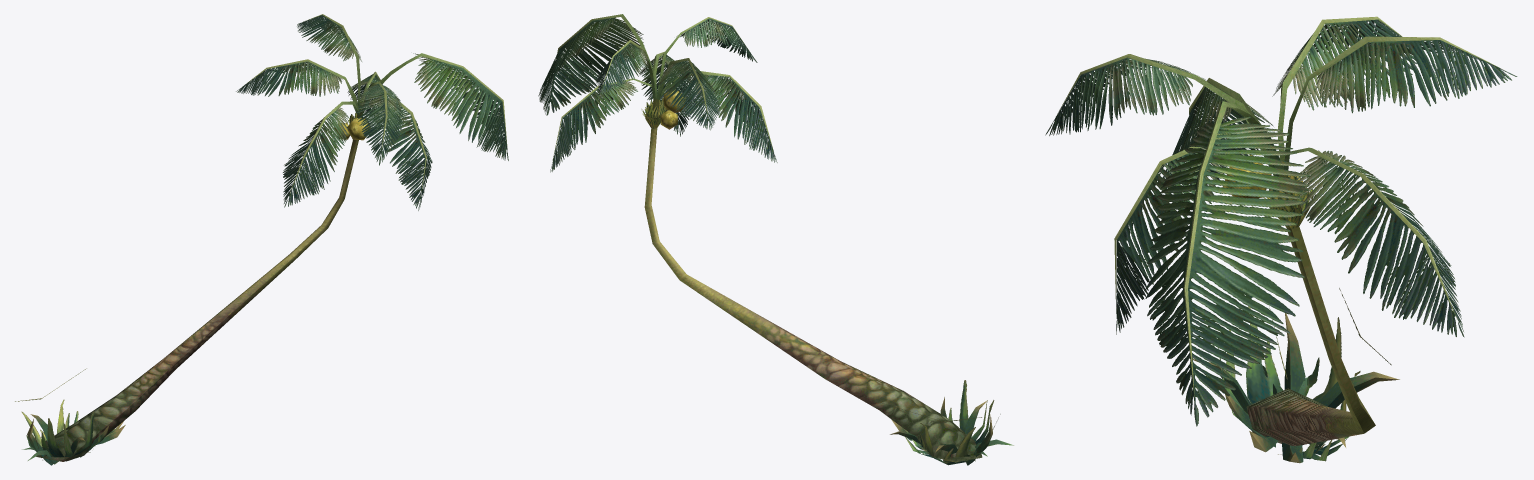
Rendered from 5010_Item_yeshu_02.FBX.
3 views of the same model, side by side, from view 1: azimuth 30°, elevation 25°; view 2: azimuth 150°, elevation 25°; view 3: azimuth 270°, elevation 25° (orthographic). The views are drawn at different scales.
Parts seen in each view (by area): view 1: 5010_Item_yeshu_02; view 2: 5010_Item_yeshu_02; view 3: 5010_Item_yeshu_02.
Boxes of the visible parts, left/top/right/bottom form: 5010_Item_yeshu_02: left=15, top=14, right=508, bottom=465; 5010_Item_yeshu_02: left=538, top=14, right=1013, bottom=465; 5010_Item_yeshu_02: left=1045, top=16, right=1517, bottom=463.
Size of the model in its own units: 932 by 666 by 411.
